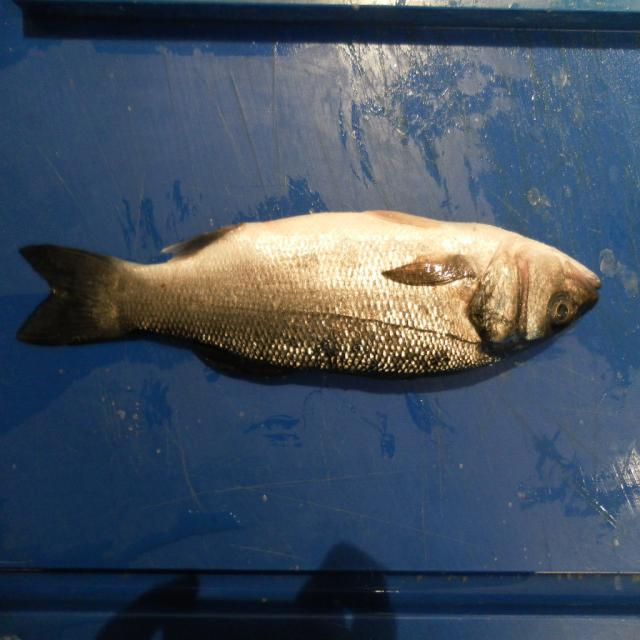Sea-Bass-levrek-: (16, 210, 602, 379)
